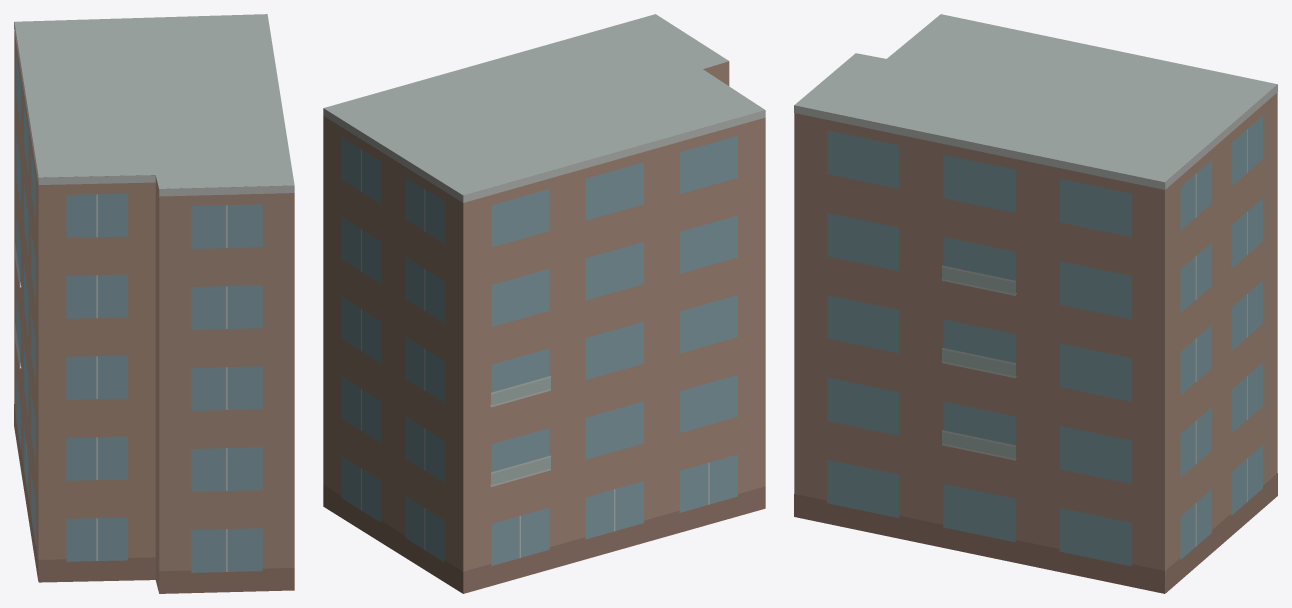
Rendered from survey-upis-32933505.glb.
3 views of the same model, side by side, from view 1: azimuth 30°, elevation 25°; view 2: azimuth 150°, elevation 25°; view 3: azimuth 270°, elevation 25° (orthographic). The views are drawn at different scales.
Parts seen in each view (by area): view 1: survey-upis-32933505.tmp; view 2: survey-upis-32933505.tmp; view 3: survey-upis-32933505.tmp.
Part boxes in pixels (bbox=[...]): survey-upis-32933505.tmp: bbox=[14, 14, 294, 593]; survey-upis-32933505.tmp: bbox=[323, 14, 765, 593]; survey-upis-32933505.tmp: bbox=[794, 14, 1277, 593].
Size of the model in its own units: 11.5 by 13.1 by 13.96.
